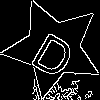D: (28, 23, 83, 81)
